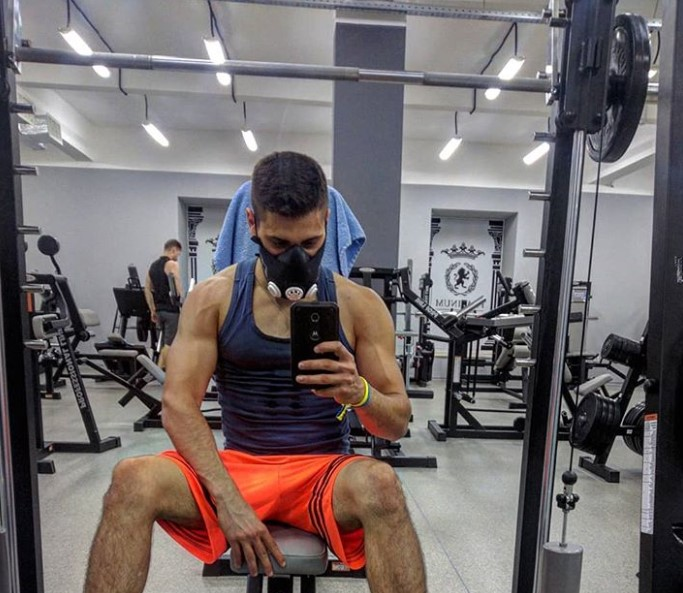face_with_mask: (244, 158, 335, 306)
